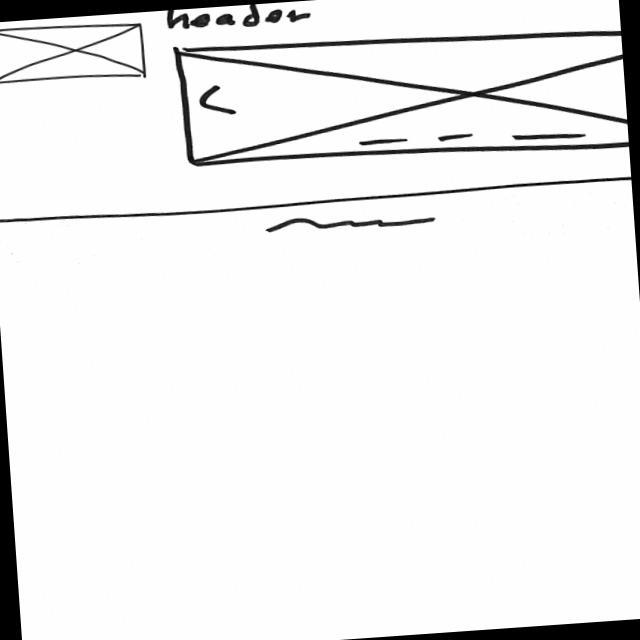image: (172, 16, 630, 180), (1, 18, 150, 89)
label: (164, 1, 316, 33)
text: (262, 208, 442, 239)
